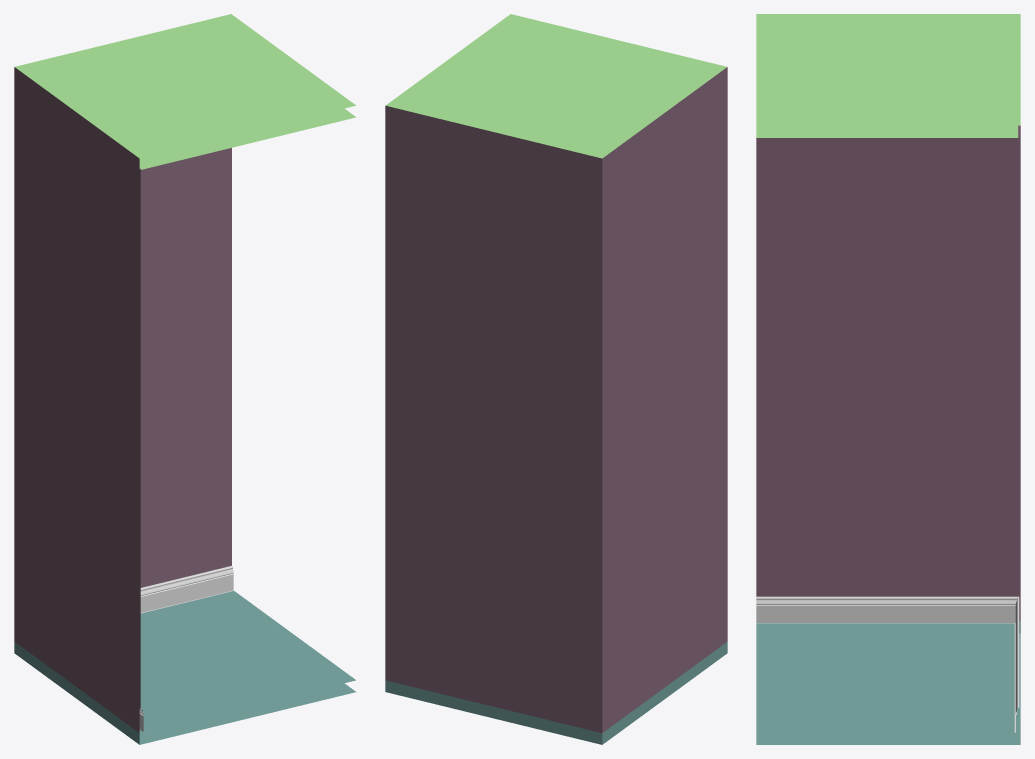
Rendered from Wall_1x1_corner_in.fbx.
3 views of the same model, side by side, from view 1: azimuth 30°, elevation 25°; view 2: azimuth 150°, elevation 25°; view 3: azimuth 270°, elevation 25° (orthographic). The views are drawn at different scales.
Parts seen in each view (by area): view 1: Wall_1x1_corner_in; view 2: Wall_1x1_corner_in; view 3: Wall_1x1_corner_in.
Boxes of the visible parts, <box> form: Wall_1x1_corner_in: <box>14,14,355,744</box>; Wall_1x1_corner_in: <box>385,14,727,744</box>; Wall_1x1_corner_in: <box>756,14,1020,744</box>.
Size of the model in its own units: 0.9675 by 2.5 by 0.9675.
